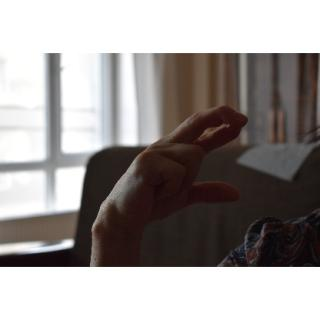DHELL: (80, 98, 264, 255)
